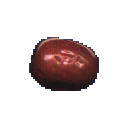gd: (21, 23, 120, 123)
